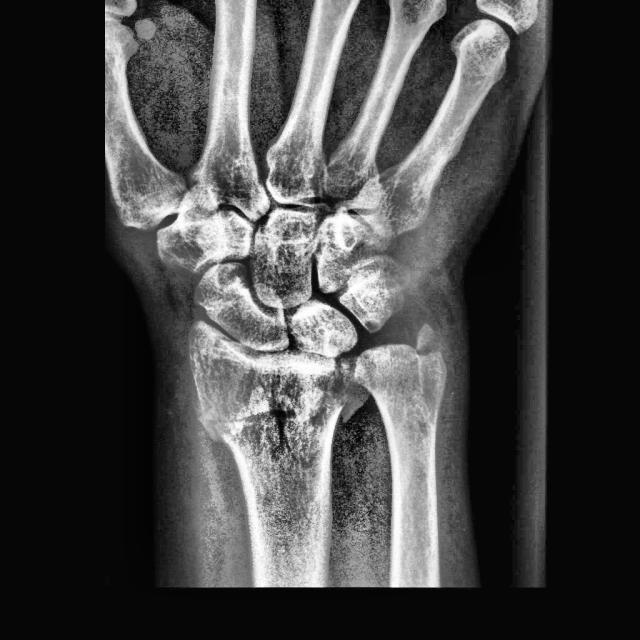angle: (416, 334, 441, 356)
line: (194, 408, 327, 466), (332, 359, 353, 429)
